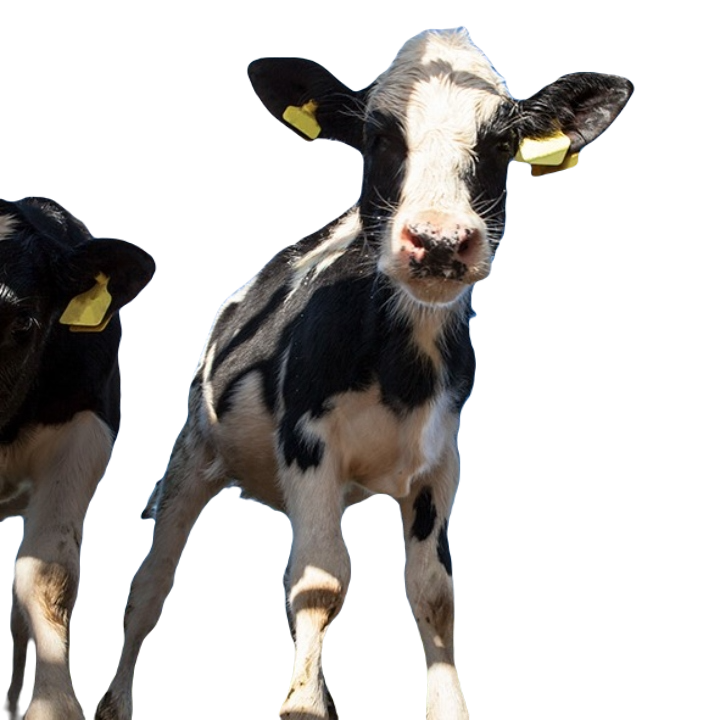Cow: (91, 27, 636, 719)
